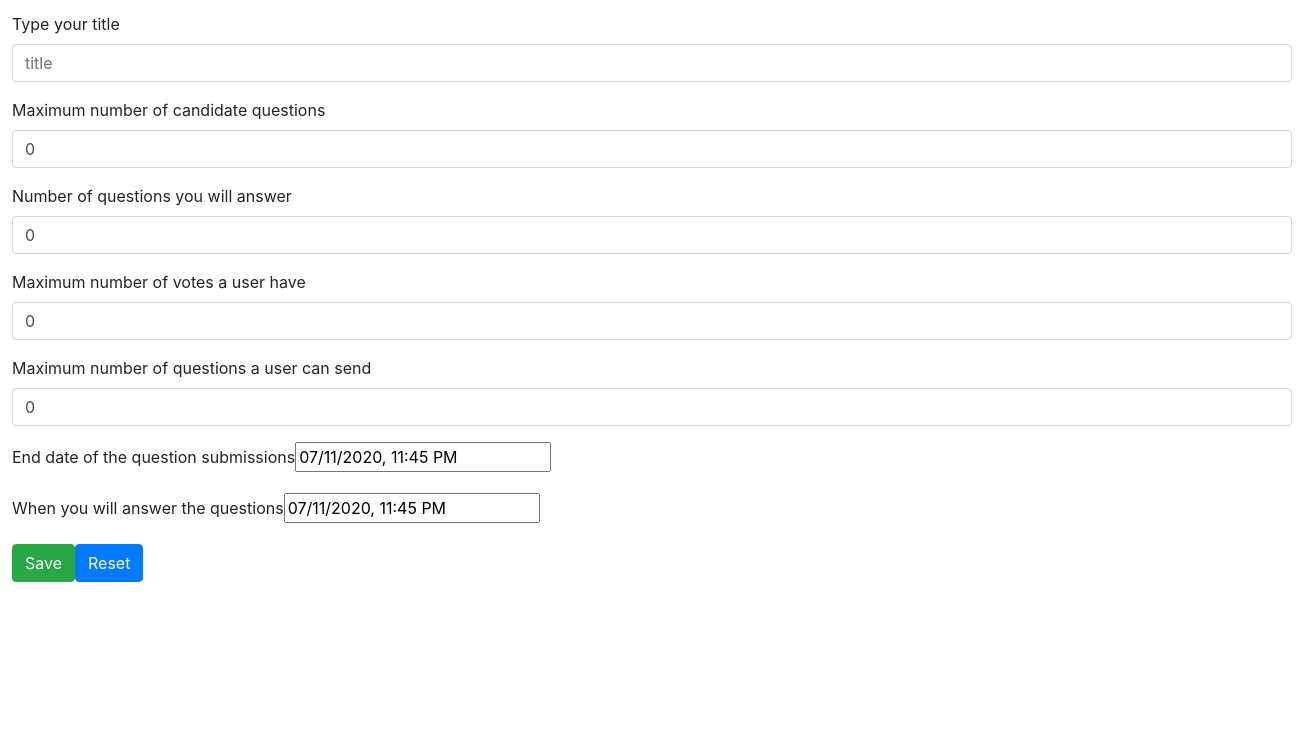
Scenario: <CreateMeeting /> › CreateMeetingPresenter › should reset
This screenshot has width=1304, height=732.
Type "some title" into the field labelled "Type your title". click: (652, 63)
box: [12,44,1292,82]
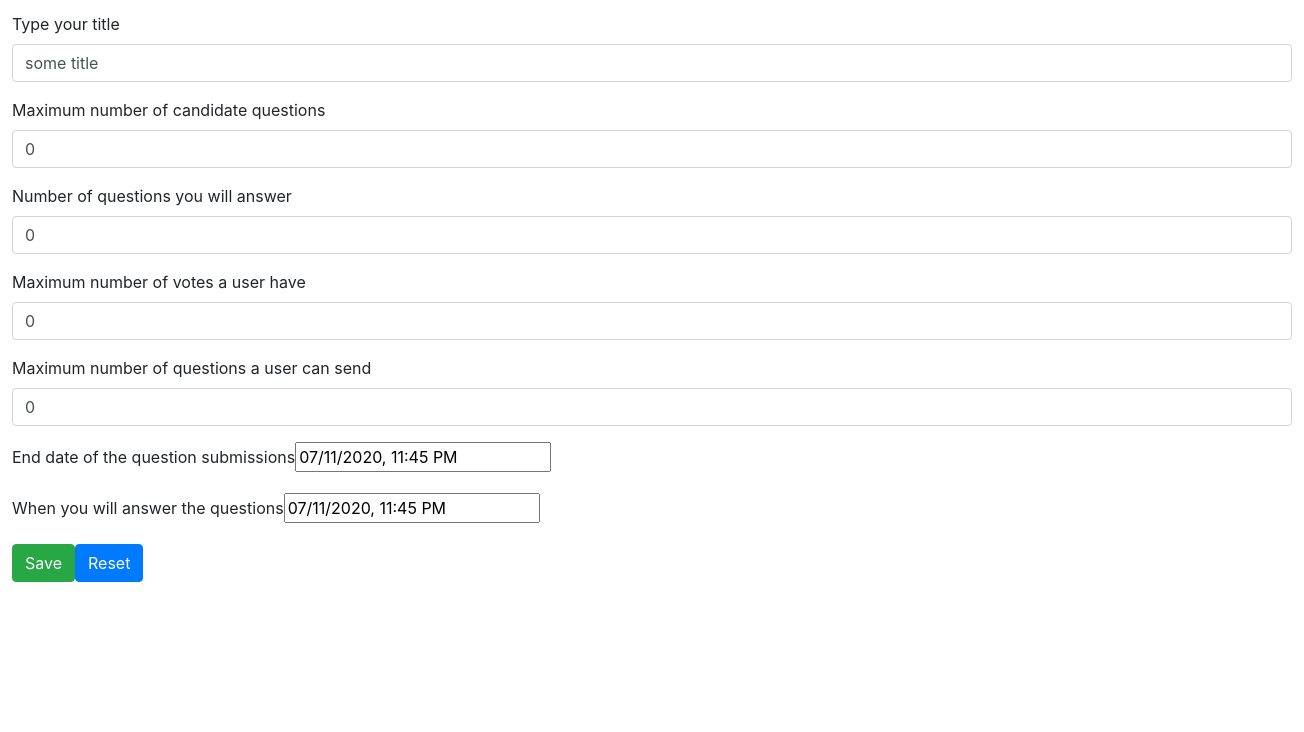
Replace the text in the number field labelled "Maximum number of candidate questions" with "3". click: (652, 149)
box: [12,130,1292,168]
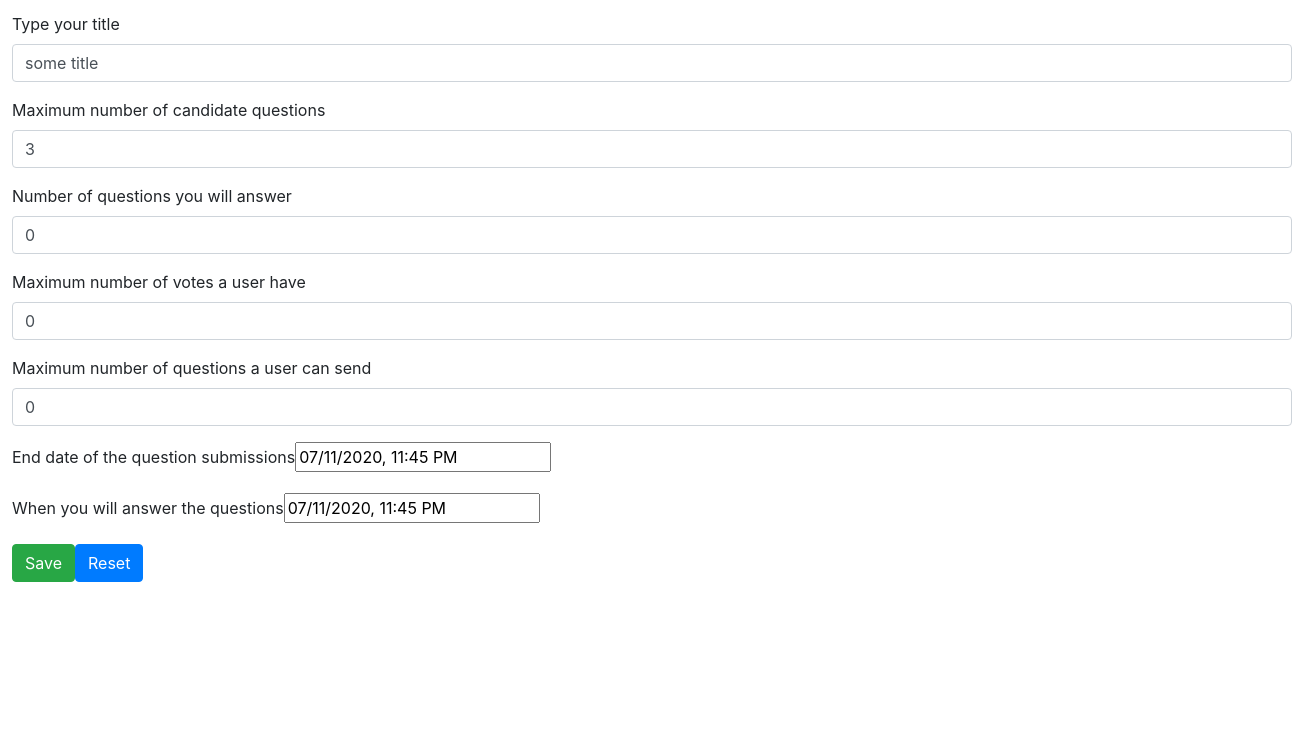
Replace the text in the number field labelled "Number of questions you will answer" with "1". click: (652, 235)
box: [12,216,1292,254]
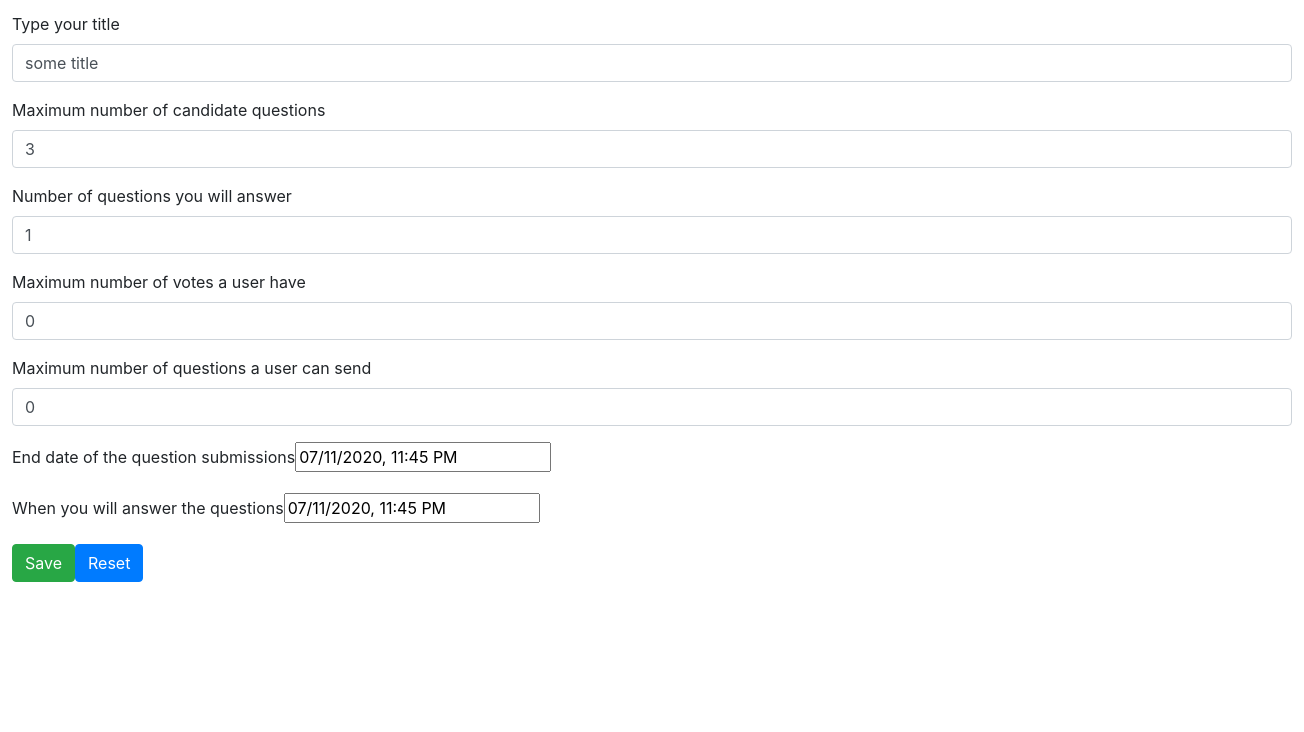
Replace the text in the number field labelled "Maximum number of votes a user have" with "2". click: (652, 321)
box: [12,302,1292,340]
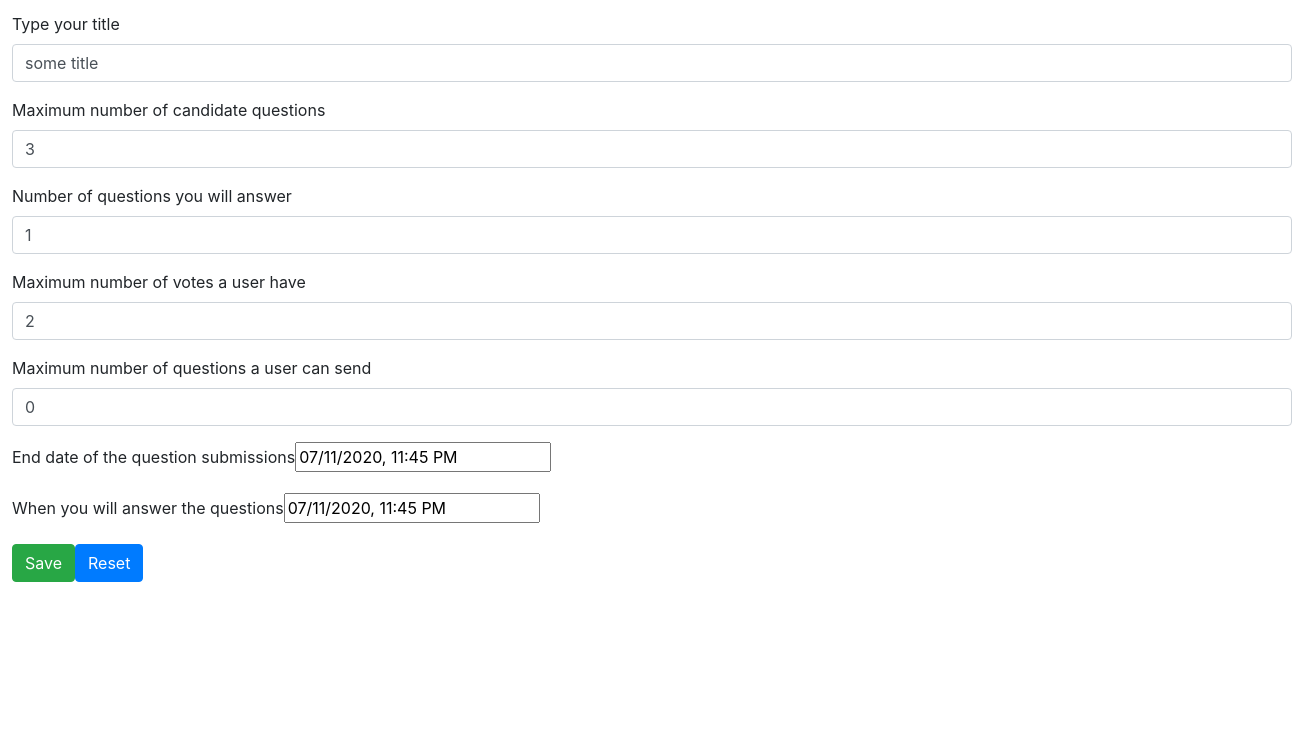
Replace the text in the number field labelled "Maximum number of questions a user can send" with "7". click: (652, 407)
box: [12,388,1292,426]
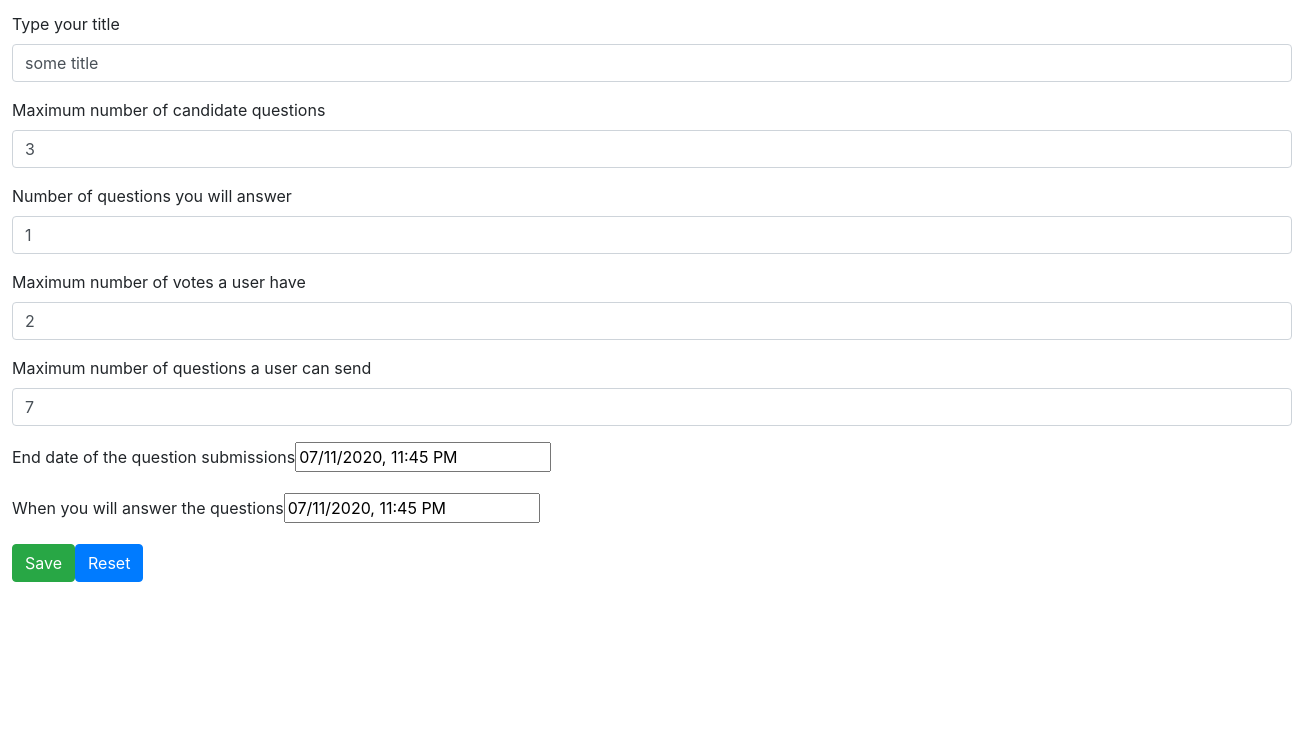
Click the button "Reset". click: (109, 563)
box: [75,544,143,582]
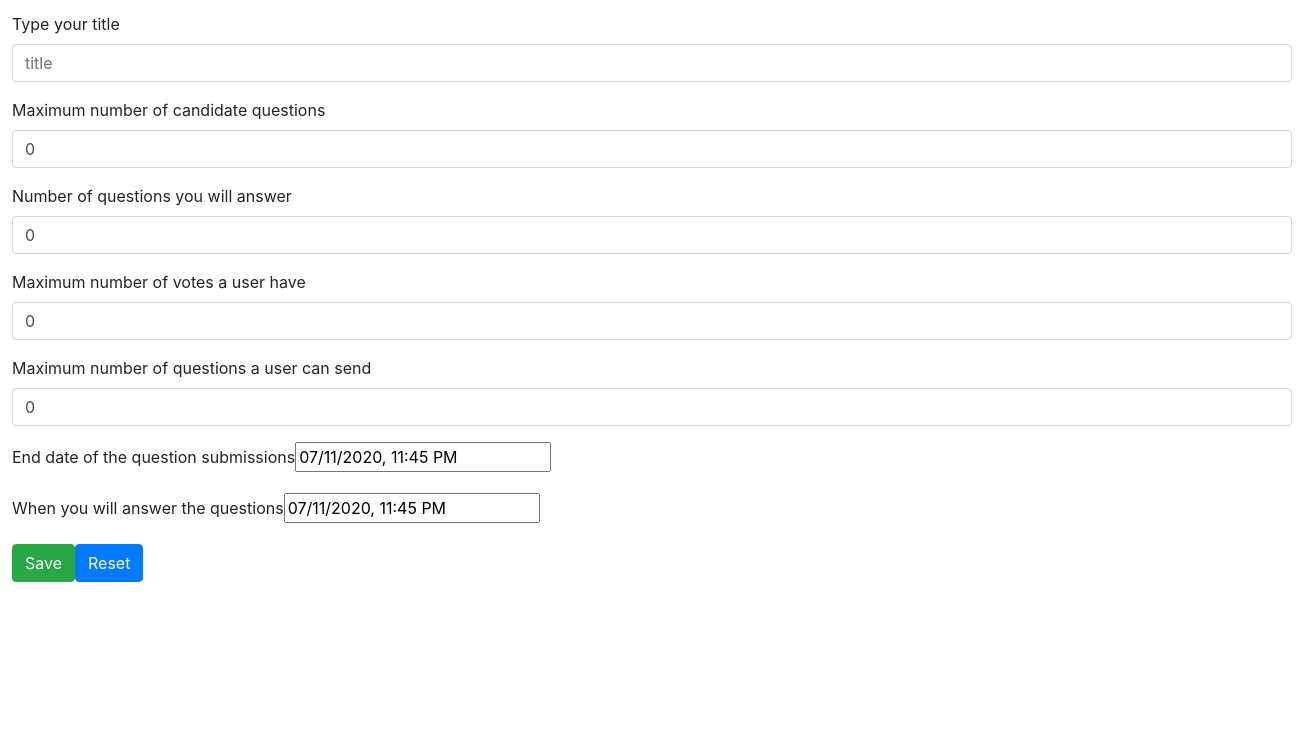
Expected: the field labelled "Type your title" is empty, [12,44,1292,82]
Expected: the number field labelled "Maximum number of candidate questions" holds "0", [12,130,1292,168]
Expected: the number field labelled "Number of questions you will answer" holds "0", [12,216,1292,254]
